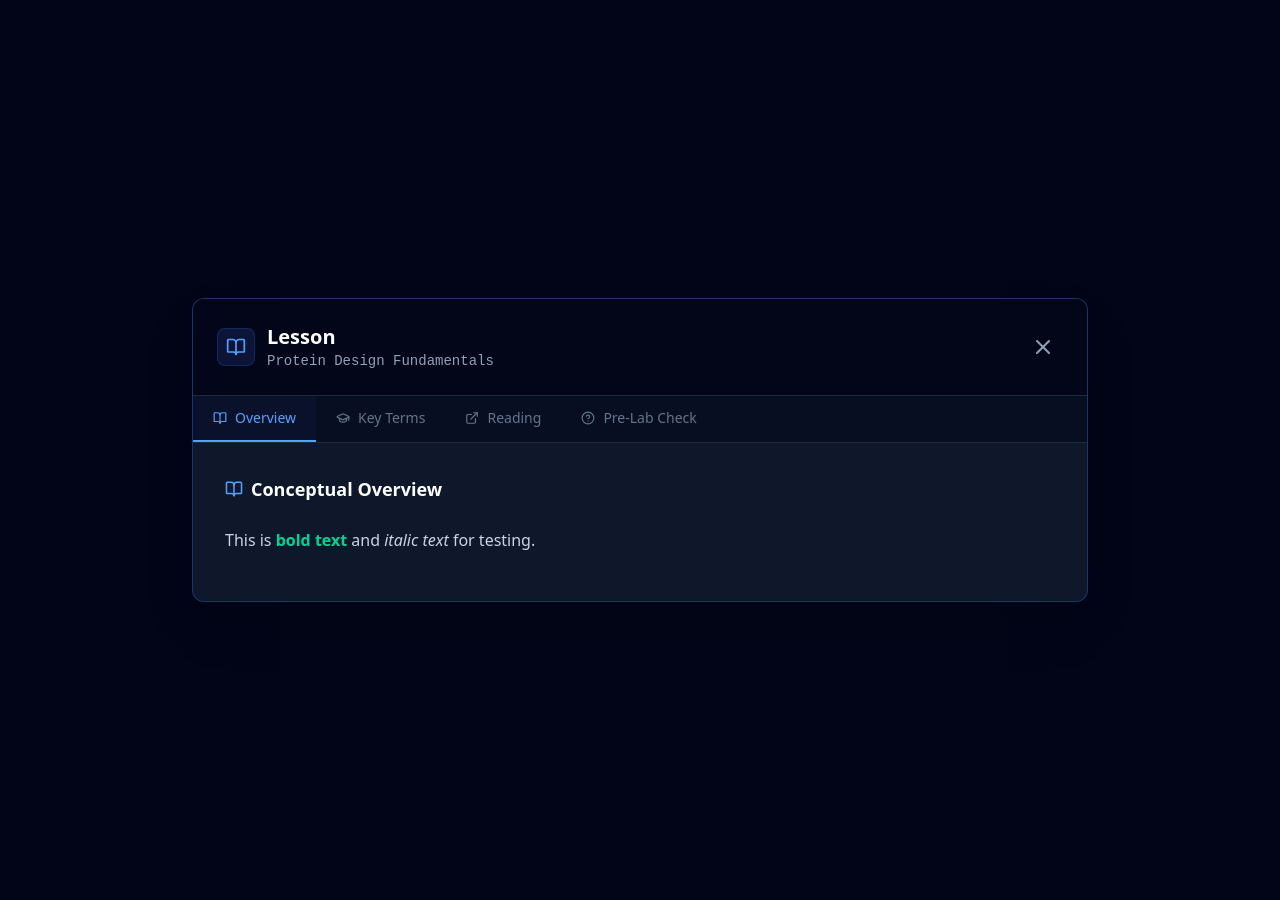
Scenario: LessonPanel › switches to Key Terms tab
What coordinates should you click on to do the following:
click the button "Key Terms"
I would click on:
 (381, 419)
Its box is [316,396,445,442].
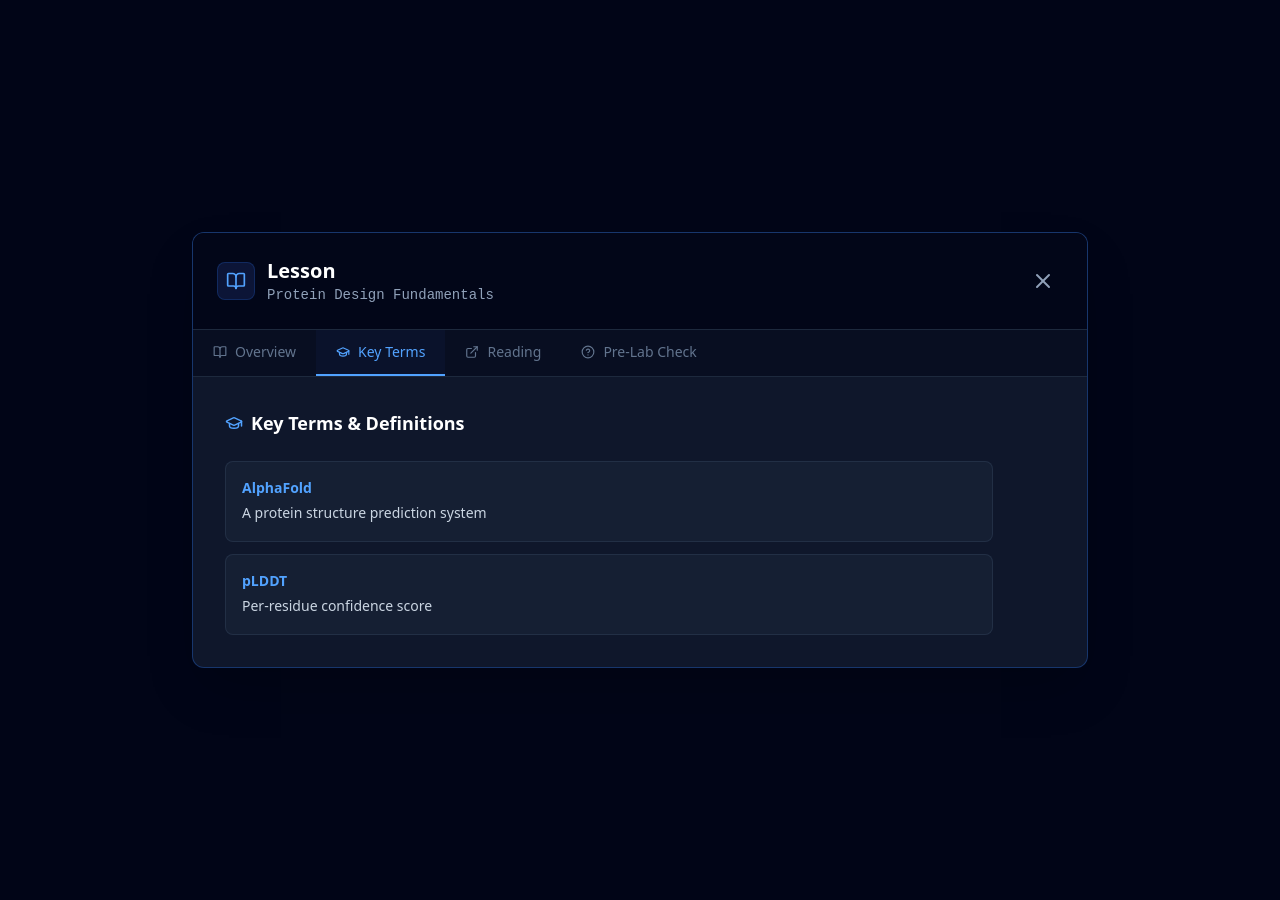
Now the text "AlphaFold" is shown, box [242,478,312,497]
Now the text "A protein structure prediction system" is shown, box [242,503,487,522]
